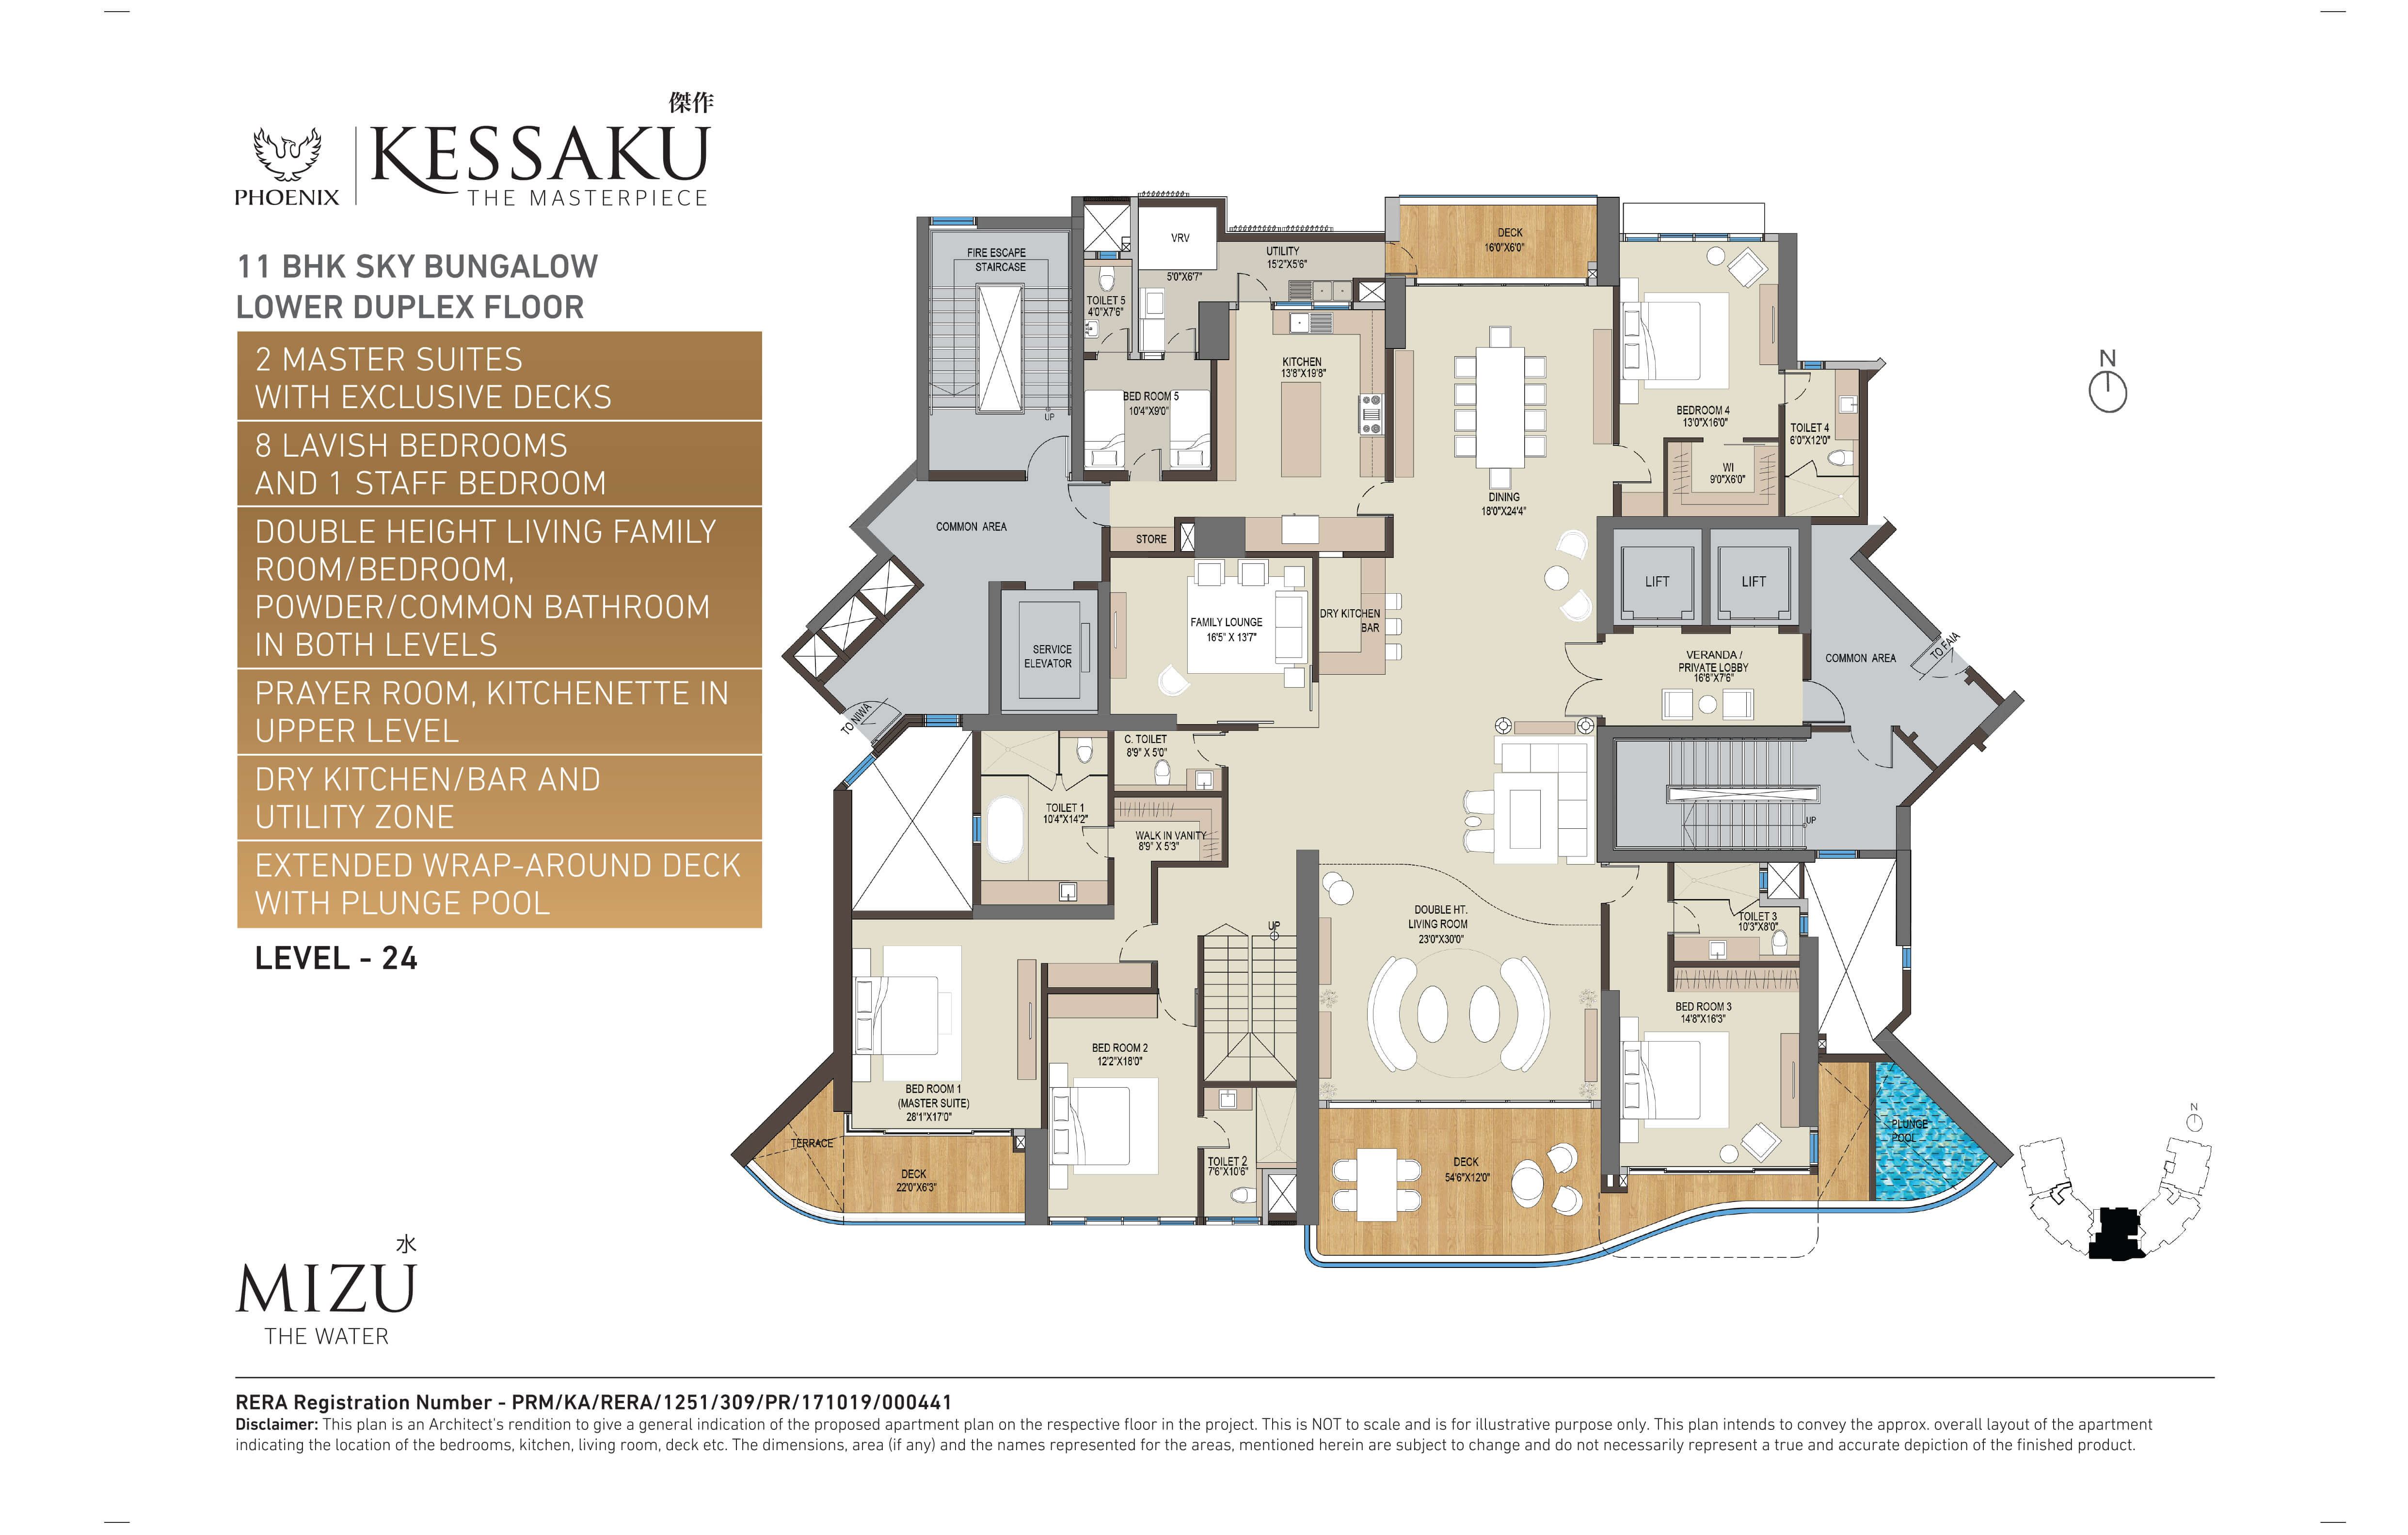door: (1562, 642, 1606, 719), (1802, 681, 1850, 725), (1348, 475, 1395, 519), (1850, 725, 1896, 768), (1157, 988, 1199, 1030), (1601, 865, 1643, 905), (1025, 435, 1071, 472), (1118, 923, 1158, 963), (1190, 732, 1227, 768), (1079, 825, 1114, 860), (1197, 1116, 1232, 1151), (1667, 902, 1702, 935)
